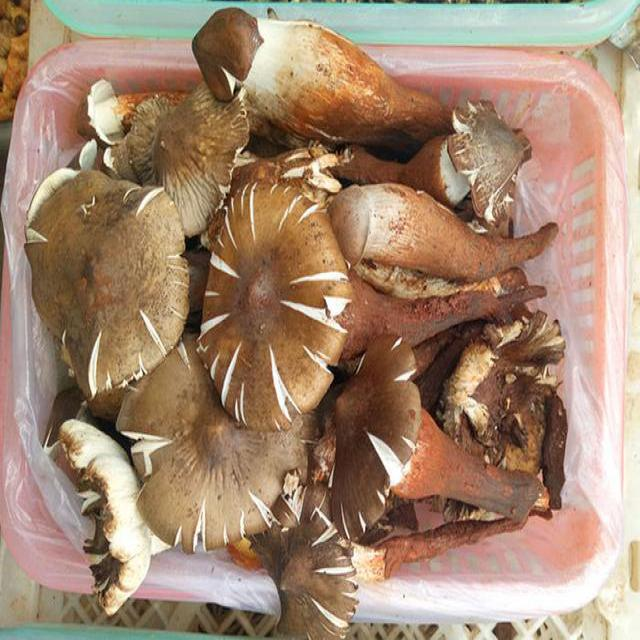Collybia albuminosa: (12, 18, 567, 609)
